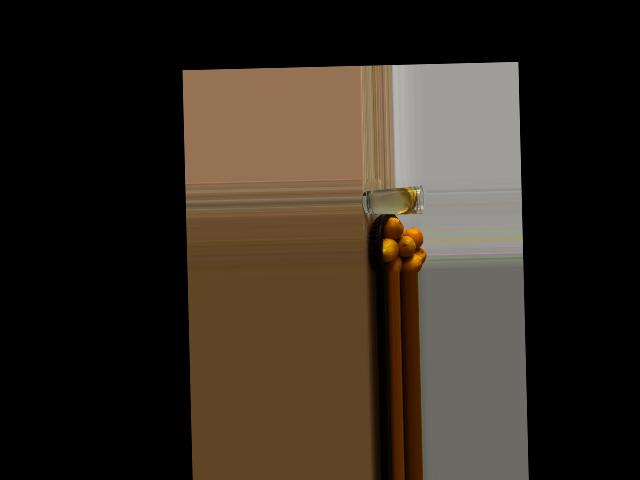lemon: (399, 251, 425, 273)
